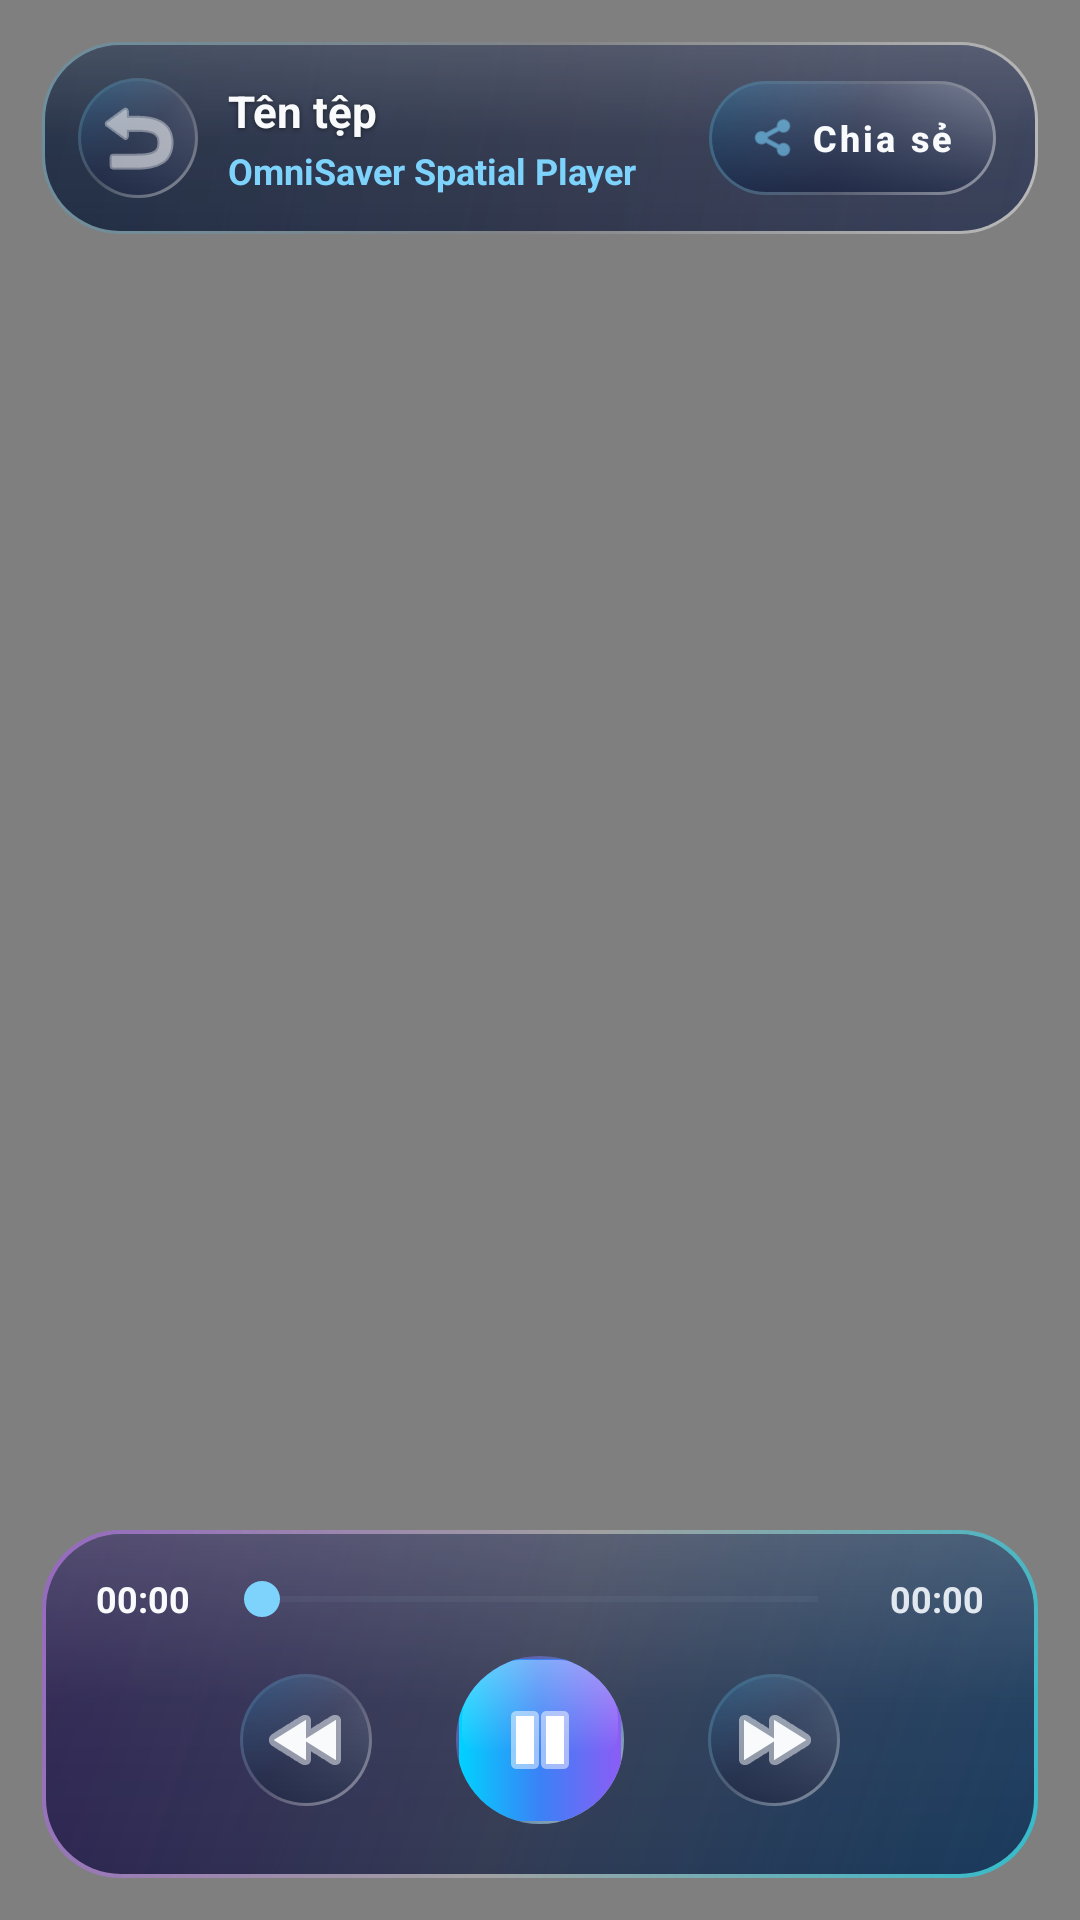

Named icons in this screenshot (1080w x 1920h) and their centers, (x=x, y=y):
Phát / Tạm dừng: (x=540, y=1740)
Quay lại: (x=138, y=138)
Tua lùi 10 giây: (x=306, y=1740)
Tua tới 10 giây: (x=774, y=1740)
